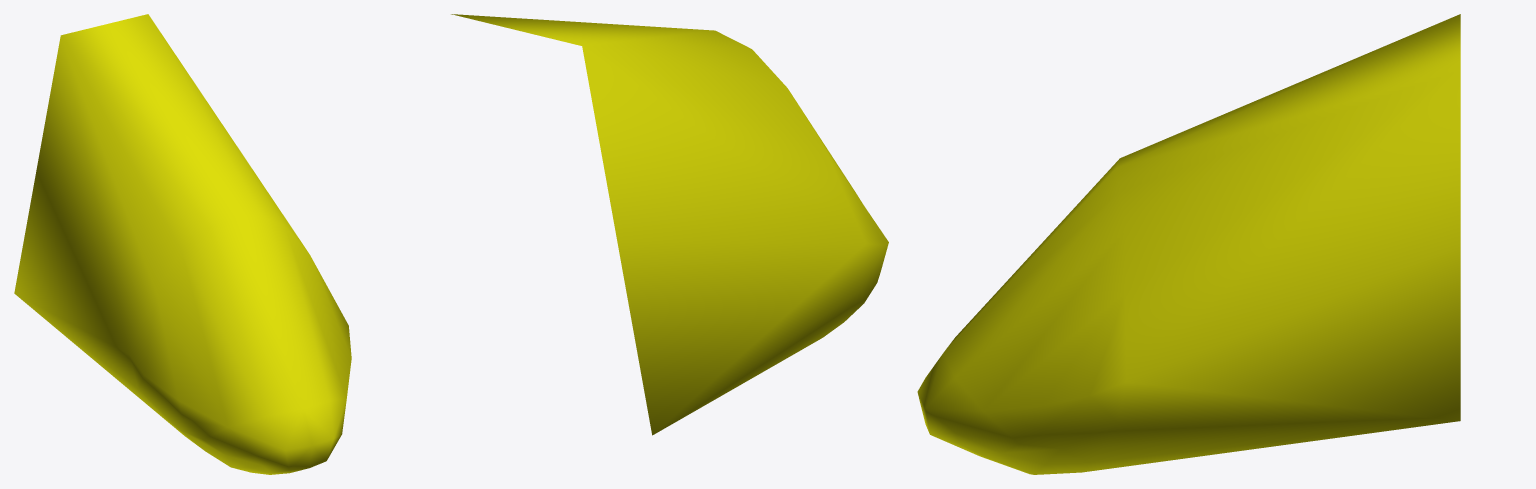
File: Nose_3.glb
3 views of the same model, side by side, from view 1: azimuth 30°, elevation 25°; view 2: azimuth 150°, elevation 25°; view 3: azimuth 270°, elevation 25° (orthographic). The views are drawn at different scales.
Size of the model in its own units: 10.24 by 15.52 by 19.8.
